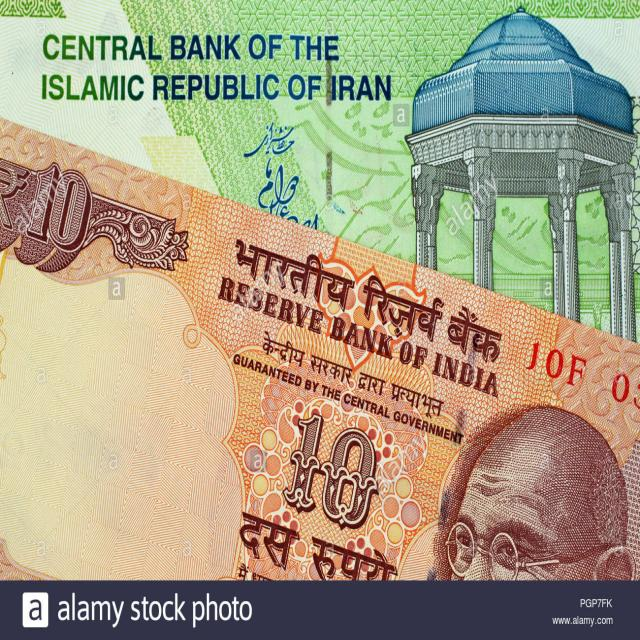10IndianRupees: (0, 132, 640, 578)
